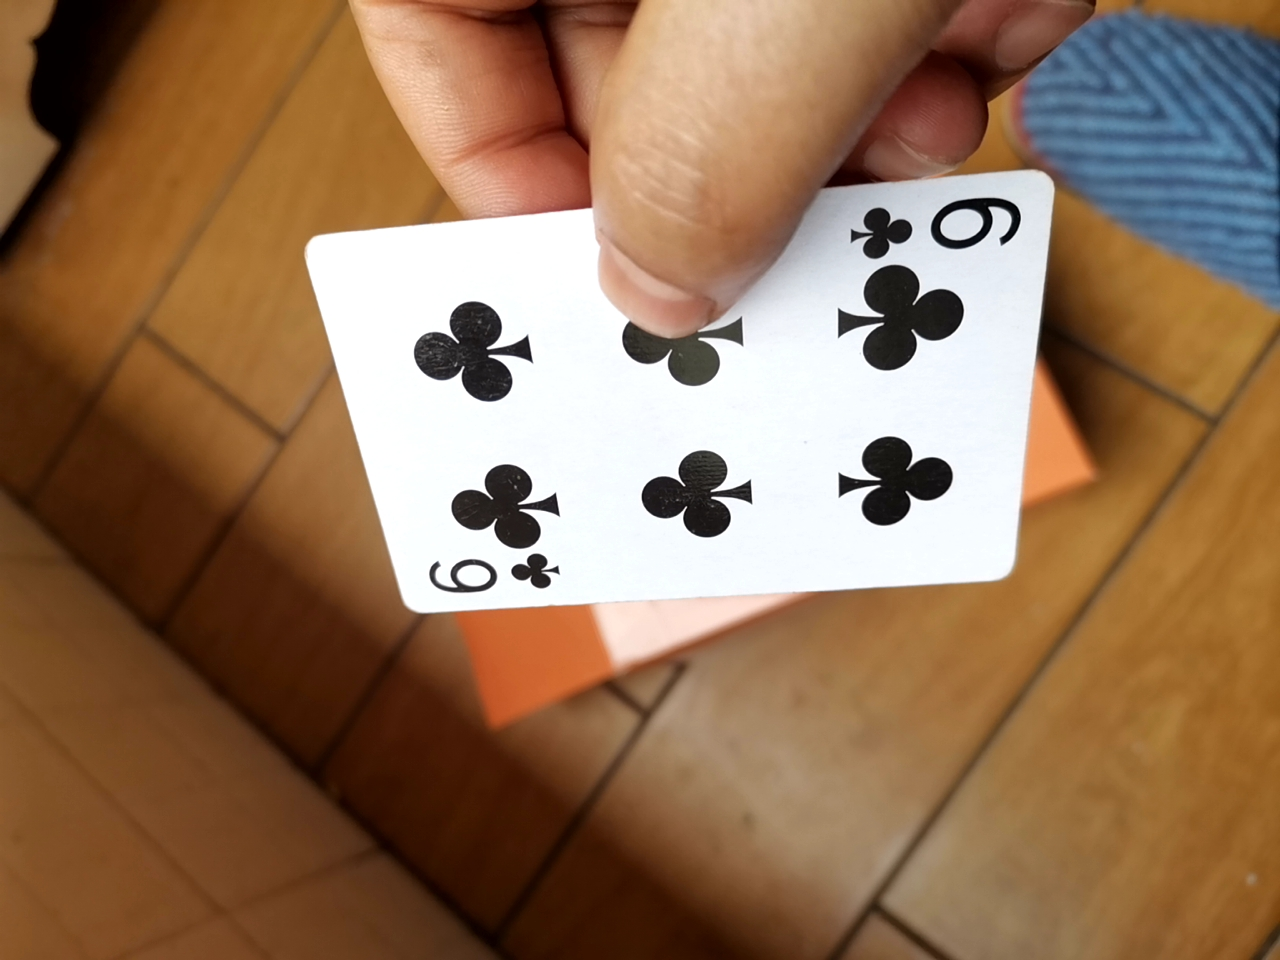mh 6: (276, 173, 1049, 635)
